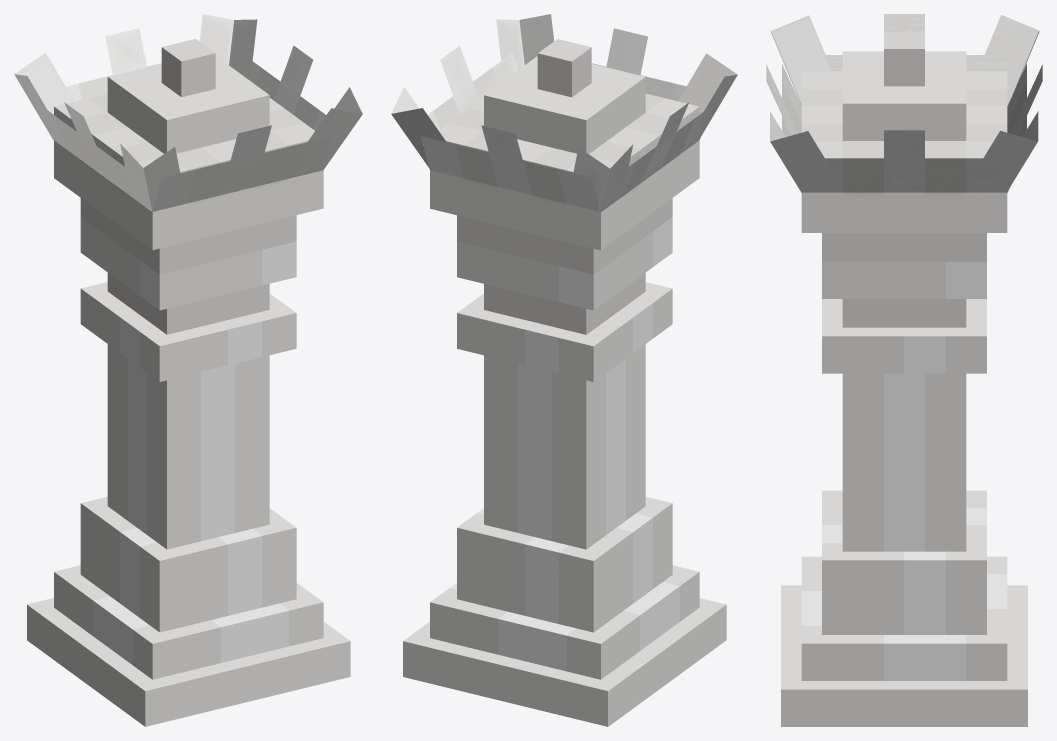
The model's file is queen.obj.
The picture shows the model from 3 angles, left to right: view 1: azimuth 30°, elevation 25°; view 2: azimuth 150°, elevation 25°; view 3: azimuth 270°, elevation 25°; orthographic projection. The views are drawn at different scales.
Parts seen in each view (by area): view 1: cube; view 2: cube; view 3: cube.
Part boxes in pixels (left/top/right/bottom): cube: left=14, top=14, right=362, bottom=726; cube: left=391, top=14, right=737, bottom=726; cube: left=766, top=14, right=1042, bottom=726.
Size of the model in its own units: 0.4199 by 1.06 by 0.4198.
